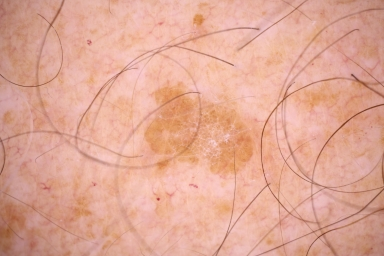nevus: (146, 85, 253, 174)
